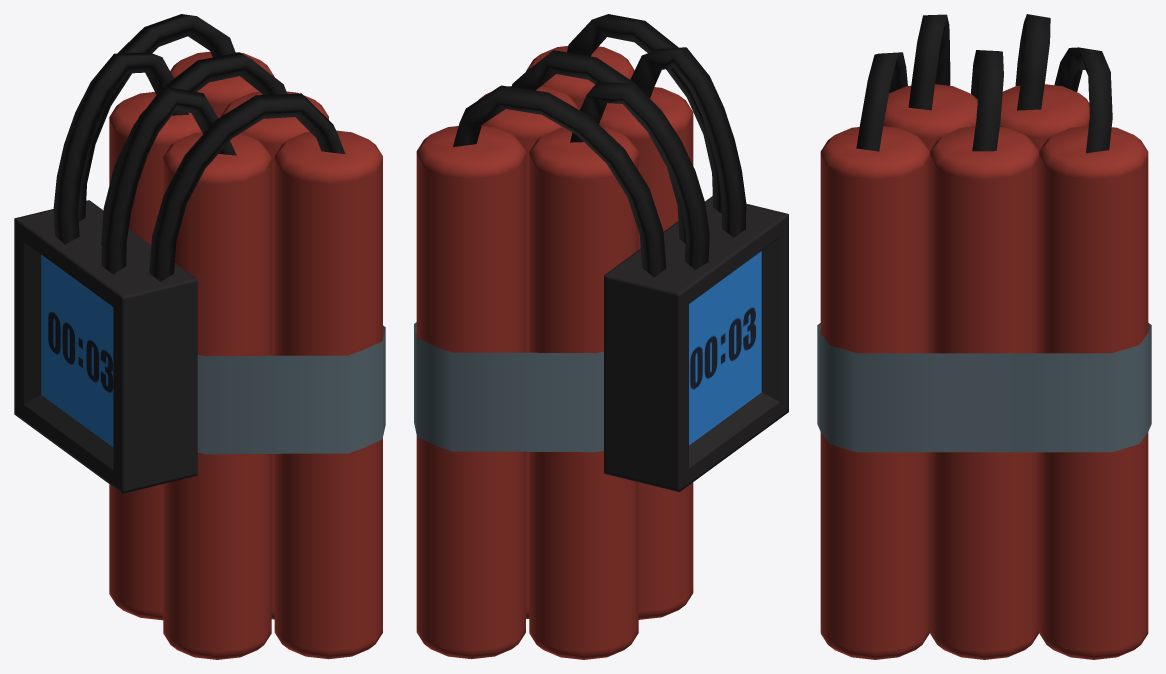
The model's file is TNTDigitalScreen.fbx.
3 renders of one model, left to right at view 1: azimuth 30°, elevation 25°; view 2: azimuth 150°, elevation 25°; view 3: azimuth 270°, elevation 25°, orthographic.
Visible parts, largest first — view 1: tnt.003, Panel, tnt.004, Tape, tnt.002, Wire.002, Wire.003, Wire.004, Wire, tnt, Wire.001, tnt.001; view 2: tnt.001, Panel, tnt.002, Tape, tnt.004, Wire, Wire.004, Wire.003, Wire.002, tnt, Wire.001, tnt.003; view 3: tnt.003, tnt.001, tnt, Tape, tnt.004, tnt.002, Wire, Wire.004, Wire.001, Wire.002, Wire.003.
Boxes of the visible parts, left/top/right/bottom form: tnt.003: left=274, top=130, right=382, bottom=659; Panel: left=14, top=200, right=197, bottom=493; tnt.004: left=163, top=132, right=271, bottom=659; Tape: left=197, top=325, right=385, bottom=454; tnt.002: left=109, top=92, right=201, bottom=620; Wire.002: left=149, top=93, right=345, bottom=281; Wire.003: left=53, top=52, right=188, bottom=244; Wire.004: left=101, top=87, right=236, bottom=274; Wire: left=78, top=14, right=235, bottom=221; tnt: left=220, top=91, right=328, bottom=619; Wire.001: left=101, top=52, right=287, bottom=245; tnt.001: left=170, top=51, right=274, bottom=118; tnt.001: left=416, top=125, right=525, bottom=659; Panel: left=604, top=196, right=788, bottom=491; tnt.002: left=529, top=127, right=638, bottom=659; Tape: left=414, top=322, right=603, bottom=452; tnt.004: left=599, top=87, right=693, bottom=619; Wire: left=453, top=85, right=666, bottom=277; Wire.004: left=630, top=47, right=746, bottom=237; Wire.003: left=570, top=81, right=709, bottom=269; Wire.002: left=567, top=14, right=722, bottom=213; tnt: left=478, top=86, right=579, bottom=618; Wire.001: left=511, top=50, right=685, bottom=243; tnt.003: left=526, top=46, right=634, bottom=109; tnt.003: left=820, top=126, right=929, bottom=659; tnt.001: left=1039, top=125, right=1148, bottom=659; tnt: left=930, top=126, right=1038, bottom=659; Tape: left=817, top=323, right=1151, bottom=452; tnt.004: left=883, top=84, right=977, bottom=151; tnt.002: left=1000, top=84, right=1089, bottom=151; Wire: left=1054, top=47, right=1112, bottom=153; Wire.004: left=908, top=14, right=950, bottom=110; Wire.001: left=971, top=50, right=1003, bottom=151; Wire.002: left=856, top=52, right=907, bottom=151; Wire.003: left=1015, top=14, right=1050, bottom=110.
Size of the model in its own units: 13.55 by 28.42 by 15.28.
5 materials, 1 textured.
